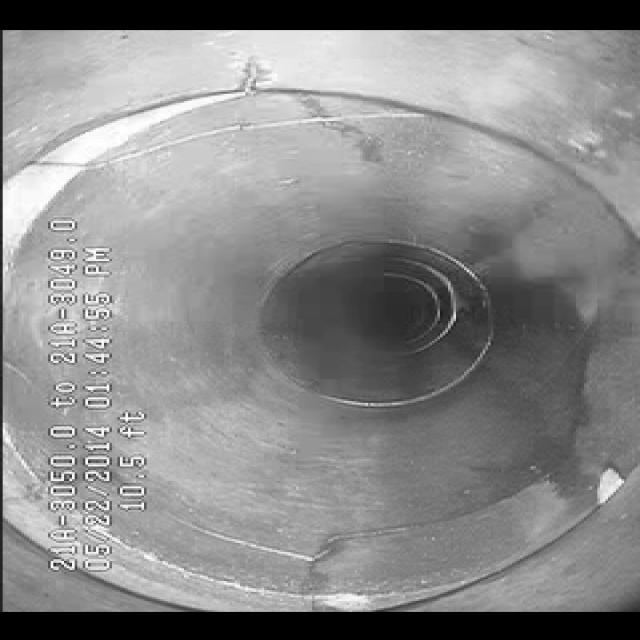Crack: (38, 98, 400, 188), (223, 480, 519, 577)
